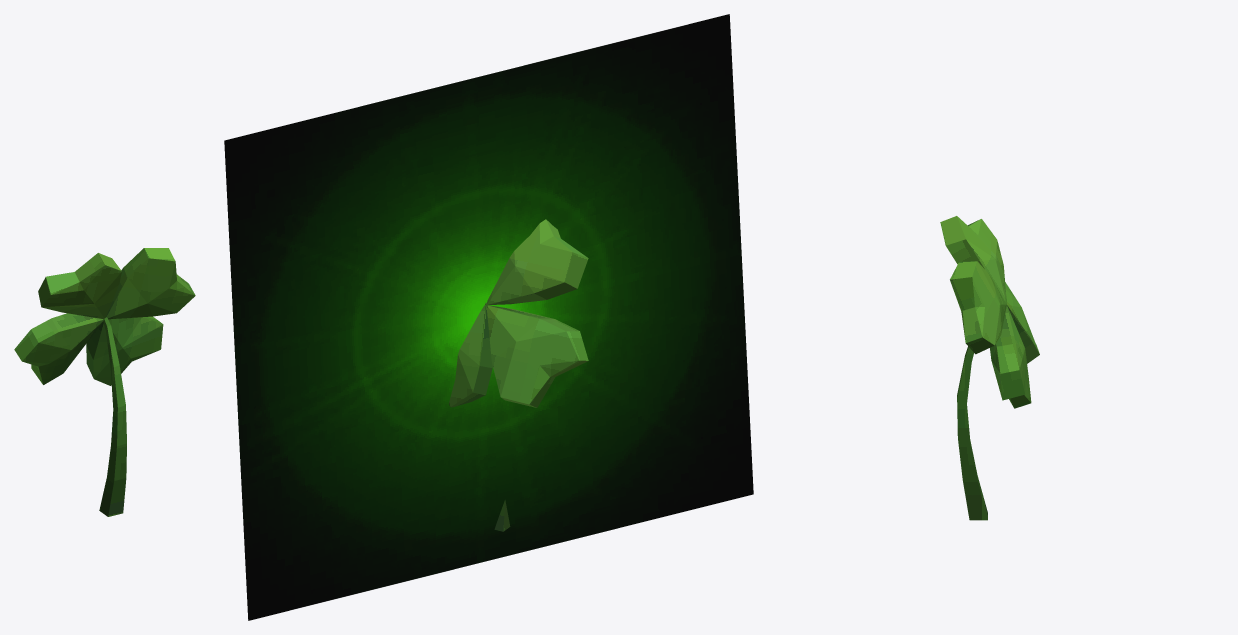
The model's file is item_four_leaf_clover.glb.
The picture shows the model from 3 angles, left to right: view 1: azimuth 30°, elevation 25°; view 2: azimuth 150°, elevation 25°; view 3: azimuth 270°, elevation 25°; orthographic projection. The views are drawn at different scales.
Parts seen in each view (by area): view 1: FourLeafClover; view 2: Quad, FourLeafClover; view 3: FourLeafClover.
Part boxes in pixels (x1=…): FourLeafClover: x1=14, y1=248, x2=195, y2=516; Quad: x1=224, y1=14, x2=753, y2=620; FourLeafClover: x1=449, y1=219, x2=588, y2=531; FourLeafClover: x1=940, y1=216, x2=1039, y2=520.
Bounding box in the file's own units: 0.4536 × 0.8101 × 0.6735.
Materials: 2 (2 with a texture image).
